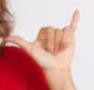clockwise: (4, 7, 82, 71)
